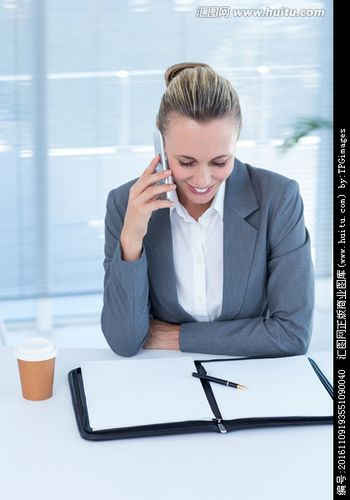calling: (121, 126, 178, 247)
